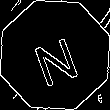N_N: (27, 24, 83, 86)
